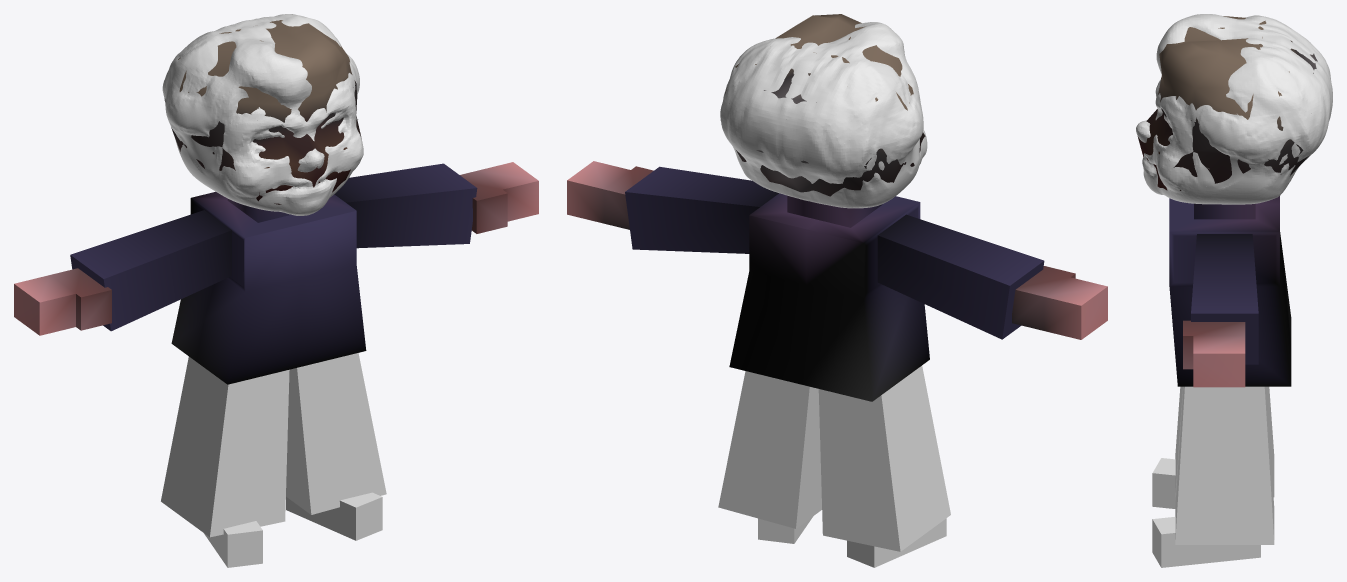
The model's file is kid1.fbx.
3 views of the same model, side by side, from view 1: azimuth 30°, elevation 25°; view 2: azimuth 150°, elevation 25°; view 3: azimuth 270°, elevation 25° (orthographic). The views are drawn at different scales.
Parts seen in each view (by area): view 1: Cube.003, Cube.002, Cube, Cube.004, Retopo_Cube, Cube.006, Cube.005; view 2: Cube.003, Cube.002, Cube, Cube.004, Cube.006, Retopo_Cube, Cube.005; view 3: Cube, Cube.003, Cube.002, Retopo_Cube, Cube.004, Cube.006, Cube.005.
Part boxes in pixels (x1,y1,x2,y2): Cube.003: [161, 353, 386, 537]; Cube.002: [171, 191, 366, 384]; Cube: [162, 14, 363, 215]; Cube.004: [70, 163, 477, 331]; Retopo_Cube: [164, 20, 361, 204]; Cube.006: [14, 162, 538, 335]; Cube.005: [204, 492, 382, 567]; Cube.003: [718, 365, 950, 551]; Cube.002: [729, 193, 929, 401]; Cube: [720, 22, 927, 208]; Cube.004: [625, 166, 1044, 339]; Cube.006: [567, 161, 1107, 339]; Retopo_Cube: [725, 14, 925, 196]; Cube.005: [758, 516, 946, 567]; Cube: [1136, 14, 1332, 204]; Cube.003: [1175, 386, 1274, 544]; Cube.002: [1169, 196, 1291, 386]; Retopo_Cube: [1137, 16, 1317, 190]; Cube.004: [1191, 234, 1258, 364]; Cube.006: [1183, 320, 1245, 387]; Cube.005: [1152, 458, 1260, 567].
Size of the model in its own units: 600 by 568 by 203.
